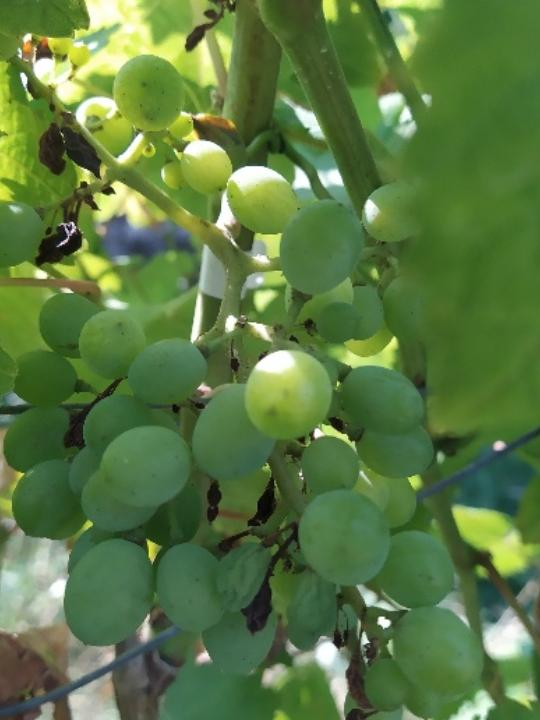grape: (0, 3, 489, 720)
